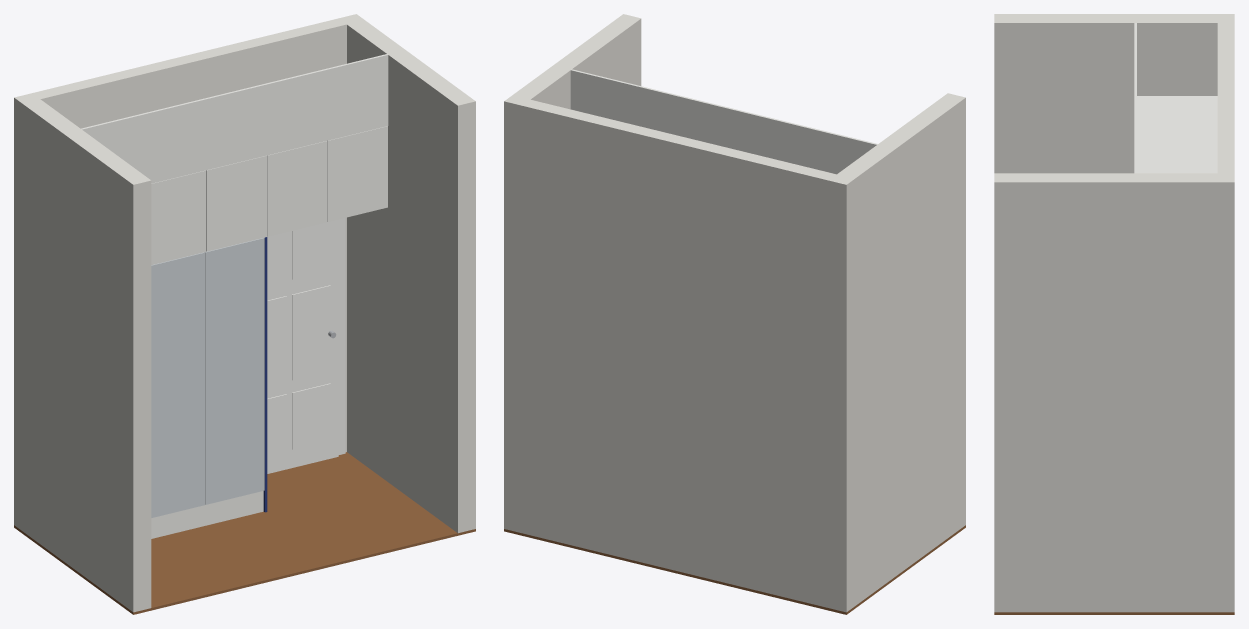
3 views of the same model, side by side, from view 1: azimuth 30°, elevation 25°; view 2: azimuth 150°, elevation 25°; view 3: azimuth 270°, elevation 25° (orthographic).
Parts seen in each view (by area): view 1: Room: left wall, Room: right wall, Room: floor, Top panel to the ceiling, Room: back wall, Mirror door 3, Mirror door 2, Room: door, Top door 4, push to open, Top door 5, push to open, Top door 3, push to open, Top door 2, push to open (+9 smaller); view 2: Room: back wall, Room: left wall, Top panel to the ceiling, Room: right wall, Room: floor; view 3: Room: right wall, Room: left wall, Room: back wall, Top cupboard 1: Top, Top cupboard 2: Top, Top cupboard 3: Top, Room: floor, Top panel to the ceiling.
Boxes of the visible parts, <box> form: Room: left wall: <box>22,99,151,612</box>; Room: right wall: <box>347,20,475,533</box>; Room: floor: <box>14,452,475,614</box>; Top panel to the ceiling: <box>81,54,388,183</box>; Room: back wall: <box>14,14,364,530</box>; Mirror door 3: <box>205,237,264,504</box>; Mirror door 2: <box>151,252,204,517</box>; Room: door: <box>267,219,338,473</box>; Top door 4, push to open: <box>267,141,327,236</box>; Top door 5, push to open: <box>327,126,387,221</box>; Top door 3, push to open: <box>206,155,266,251</box>; Top door 2, push to open: <box>151,170,206,264</box>; Room: back wall: <box>504,95,854,612</box>; Room: left wall: <box>837,93,965,605</box>; Top panel to the ceiling: <box>570,69,877,174</box>; Room: right wall: <box>513,14,641,109</box>; Room: floor: <box>504,525,965,614</box>; Room: right wall: <box>994,173,1217,612</box>; Room: left wall: <box>994,14,1217,173</box>; Room: back wall: <box>1217,14,1234,612</box>; Top cupboard 1: Top: <box>1137,97,1217,124</box>; Top cupboard 2: Top: <box>1137,127,1217,154</box>; Top cupboard 3: Top: <box>1137,156,1217,173</box>; Room: floor: <box>994,612,1234,614</box>; Top panel to the ceiling: <box>1134,23,1136,173</box>.
Size of the model in its own units: 2.85 by 3.42 by 1.72.
